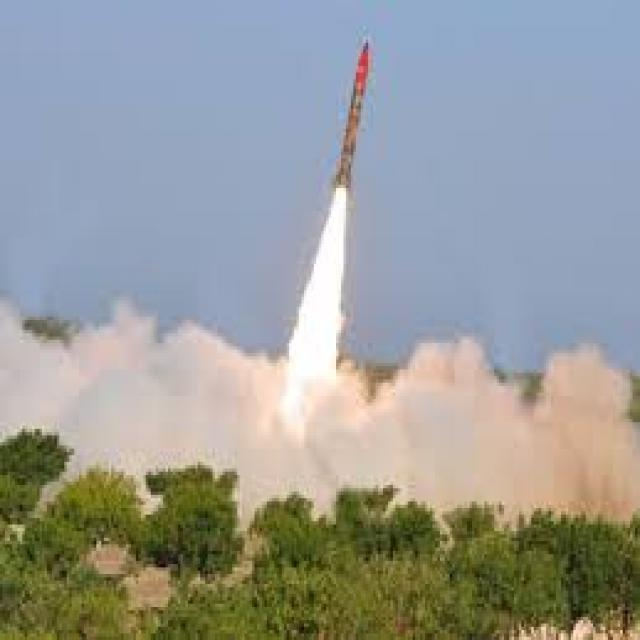Missile: (323, 42, 377, 195)
